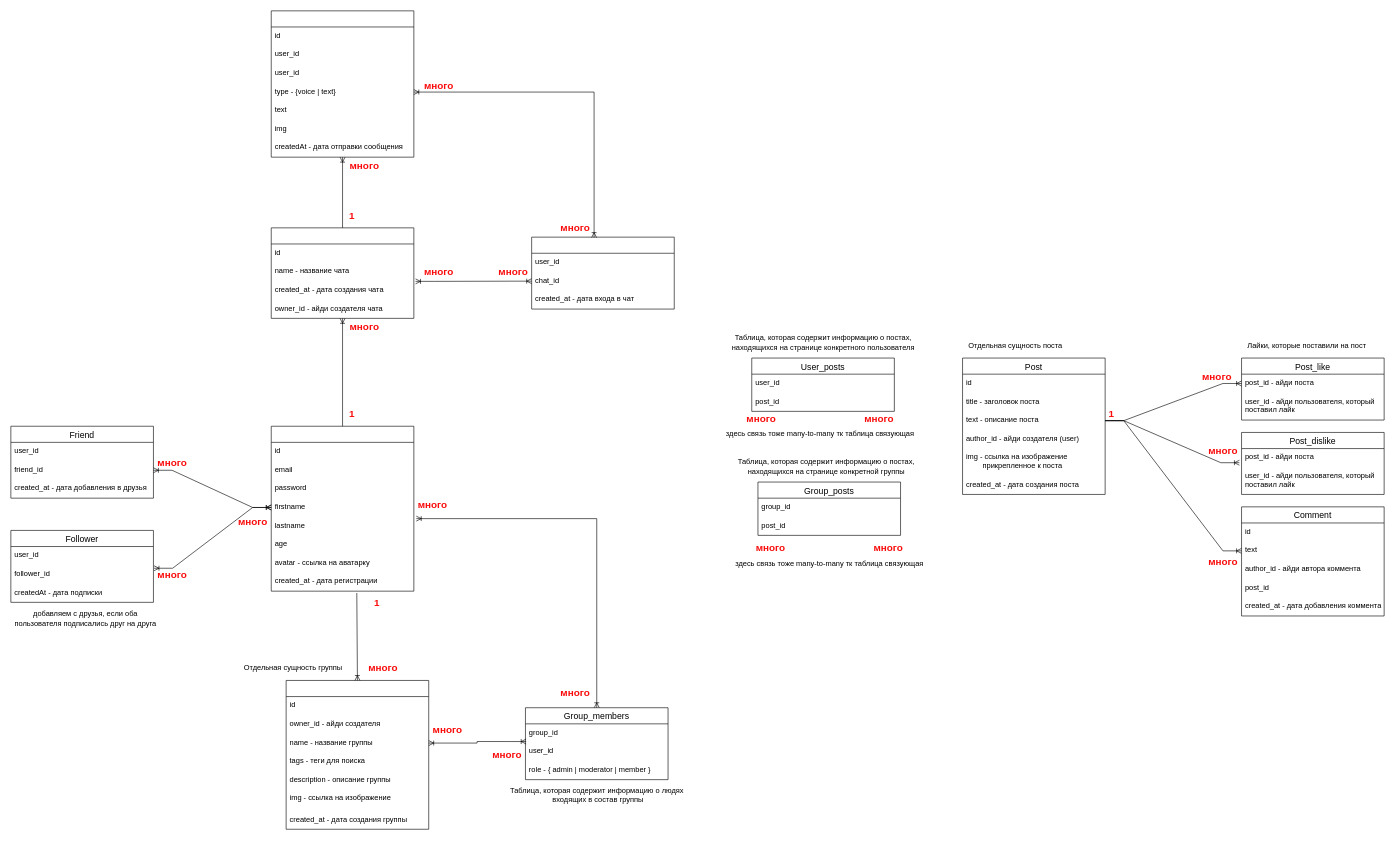
The diagram is 1395 pixels wide and 842 high, and some of its shapes have lost their labels. The box of each missing label's shape, as (x1, y1, x2, y2) in pixels:
Chat: (271, 227, 414, 318)
Chat_members: (531, 237, 674, 309)
Group: (286, 680, 429, 829)
message: (271, 10, 414, 157)
User: (271, 426, 414, 591)
